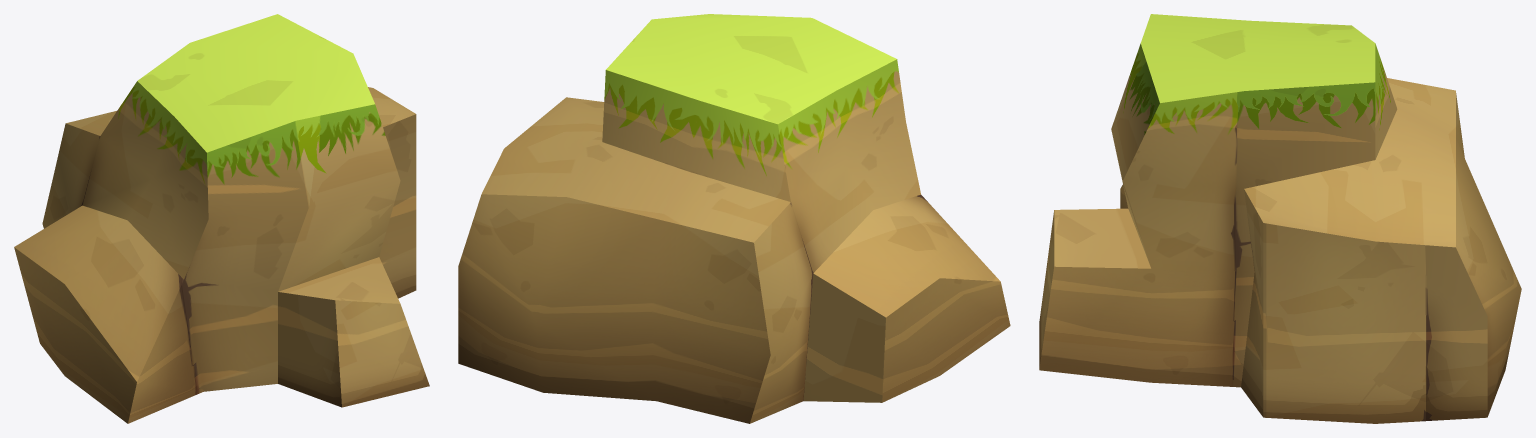
File: F_W_O_rock_023.fbx
3 views of the same model, side by side, from view 1: azimuth 30°, elevation 25°; view 2: azimuth 150°, elevation 25°; view 3: azimuth 270°, elevation 25° (orthographic). The views are drawn at different scales.
Visible parts, largest first — view 1: F_W_O_rock_023; view 2: F_W_O_rock_023; view 3: F_W_O_rock_023.
Part boxes in pixels (<box>): F_W_O_rock_023: <box>14,14,429,423</box>; F_W_O_rock_023: <box>458,14,1010,423</box>; F_W_O_rock_023: <box>1039,14,1521,423</box>.
Bounding box in the file's own units: 4.36 × 2.97 × 4.52.
